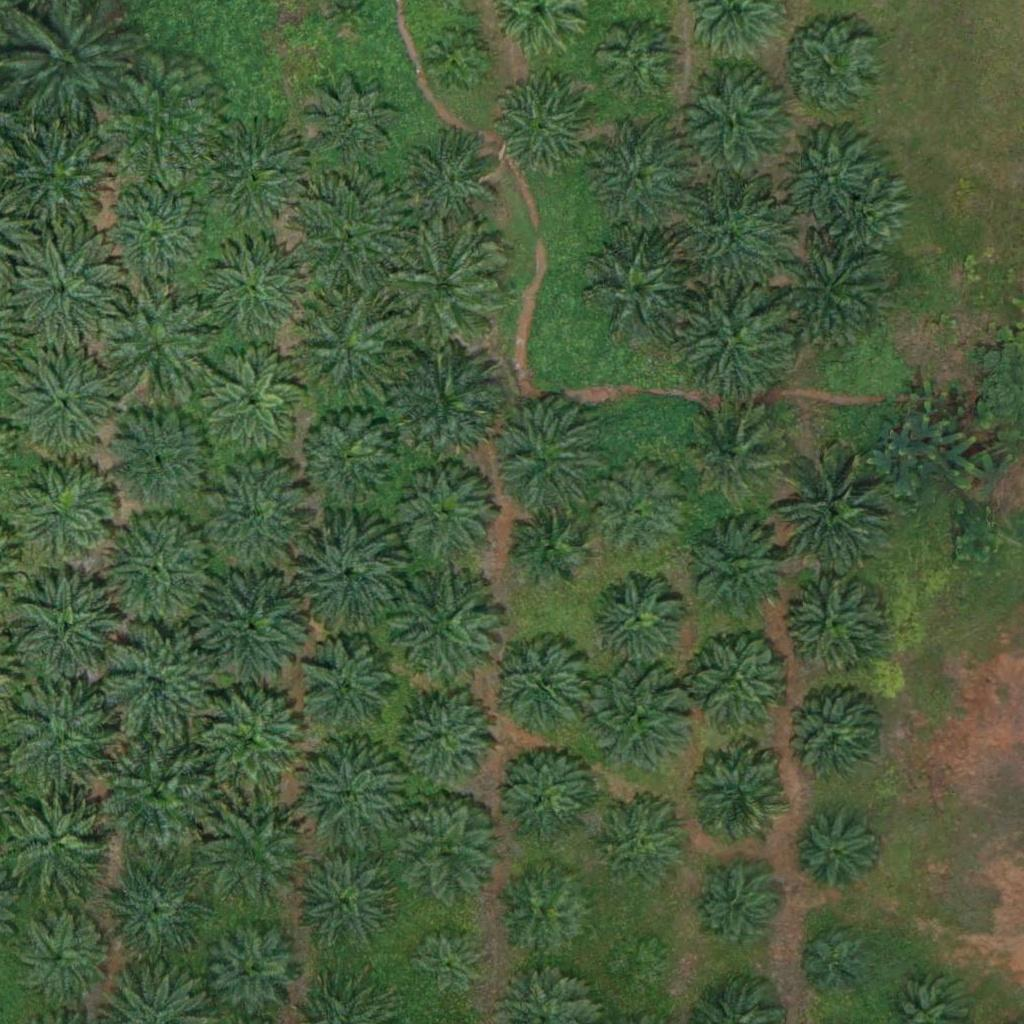Kelapa_Sawit: (104, 65, 217, 179), (16, 4, 129, 118), (385, 228, 498, 342), (489, 402, 602, 516), (681, 623, 794, 737), (579, 662, 692, 776), (681, 71, 794, 184), (99, 181, 212, 294), (103, 288, 216, 401), (100, 402, 213, 515), (203, 456, 316, 569), (195, 566, 308, 679), (674, 182, 787, 295), (776, 244, 889, 357), (296, 741, 409, 854), (197, 687, 310, 800), (8, 686, 121, 799), (194, 113, 306, 227), (198, 228, 310, 342), (293, 180, 405, 294), (290, 288, 402, 402), (390, 341, 502, 455), (387, 456, 499, 570), (779, 459, 891, 572), (295, 68, 407, 181), (5, 238, 117, 351), (6, 349, 118, 462), (11, 573, 123, 686), (99, 516, 211, 629), (100, 628, 212, 741), (291, 509, 403, 622), (389, 574, 501, 687), (583, 233, 695, 346), (679, 286, 791, 399), (684, 517, 796, 630), (199, 798, 311, 911), (102, 738, 214, 851), (98, 850, 210, 963), (689, 407, 789, 508), (589, 130, 689, 231), (491, 75, 591, 176), (12, 460, 112, 561), (202, 347, 302, 448), (297, 638, 397, 739), (397, 134, 497, 235), (783, 573, 883, 674), (596, 792, 696, 893), (494, 741, 594, 842), (498, 860, 598, 961), (394, 686, 494, 787), (395, 798, 495, 899), (295, 847, 395, 948), (298, 404, 398, 504), (487, 637, 587, 737), (589, 460, 689, 560), (586, 572, 686, 672), (785, 687, 885, 787), (686, 747, 786, 847), (9, 906, 109, 1006), (593, 20, 681, 109), (790, 811, 878, 899), (792, 26, 879, 114), (785, 133, 872, 221), (820, 173, 907, 261), (692, 863, 779, 951), (510, 506, 585, 582), (408, 930, 483, 1005), (425, 29, 488, 92), (803, 931, 866, 994), (605, 934, 667, 997)
